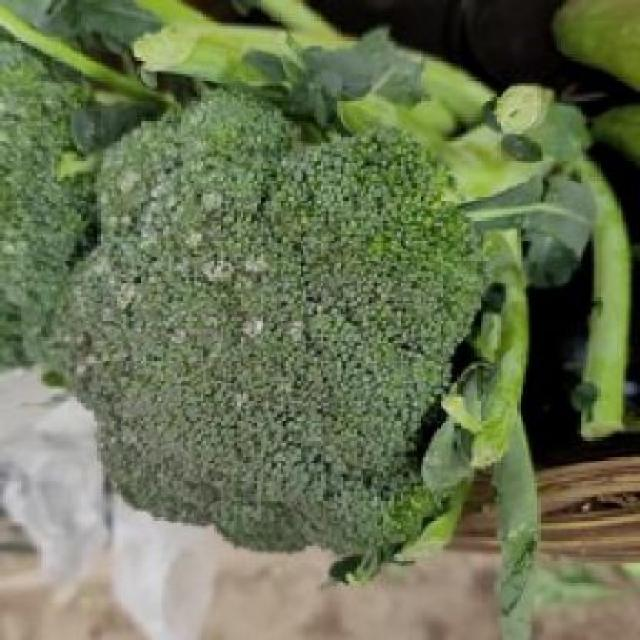broccoli: (74, 89, 606, 543)
